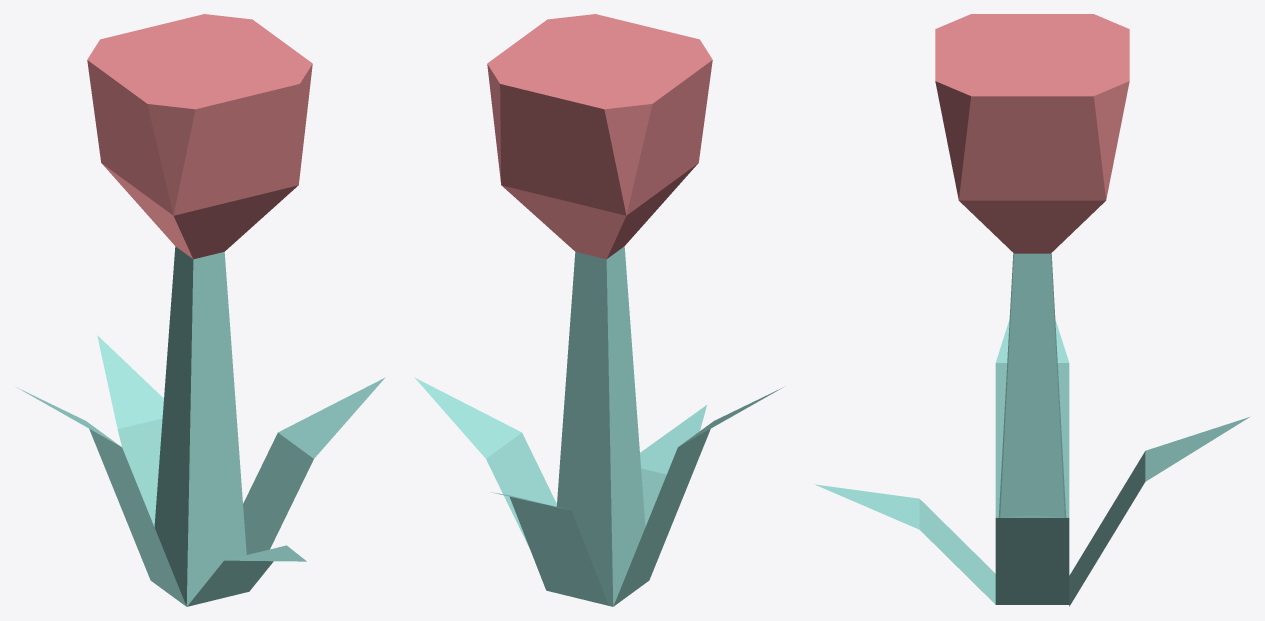
The model's file is flower_red1.glb.
3 views of the same model, side by side, from view 1: azimuth 30°, elevation 25°; view 2: azimuth 150°, elevation 25°; view 3: azimuth 270°, elevation 25° (orthographic).
Visible parts, largest first — view 1: flower_red1; view 2: flower_red1; view 3: flower_red1.
Part boxes in pixels (x1,y1,x2,y2): flower_red1: (16, 14, 385, 606); flower_red1: (414, 14, 783, 606); flower_red1: (814, 14, 1250, 606).
Size of the model in its own units: 0.2076 by 0.28 by 0.2076.
